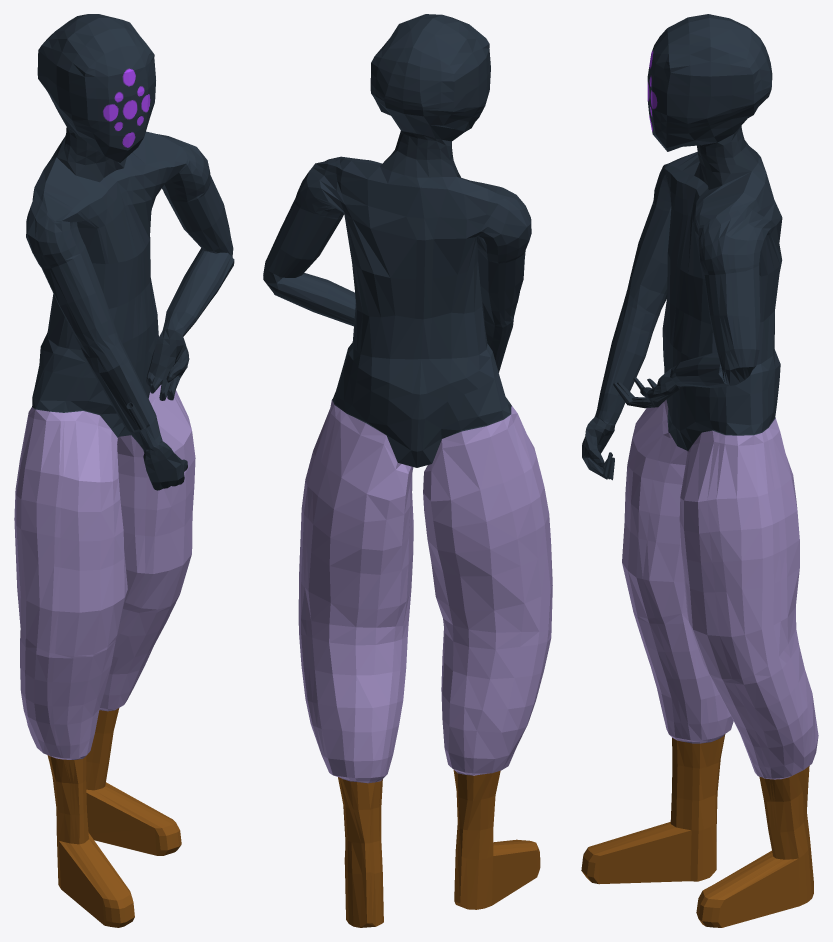
The model's file is Oracle_WB_000001.obj.
3 views of the same model, side by side, from view 1: azimuth 30°, elevation 25°; view 2: azimuth 150°, elevation 25°; view 3: azimuth 270°, elevation 25° (orthographic). The views are drawn at different scales.
Parts seen in each view (by area): view 1: Cube; view 2: Cube; view 3: Cube.
Boxes of the visible parts, x1,y1,x2,y2 form: Cube: (14,14,234,927); Cube: (263,14,552,927); Cube: (581,14,818,927).
Bounding box in the file's own units: 1.15 × 3.94 × 0.9645.
